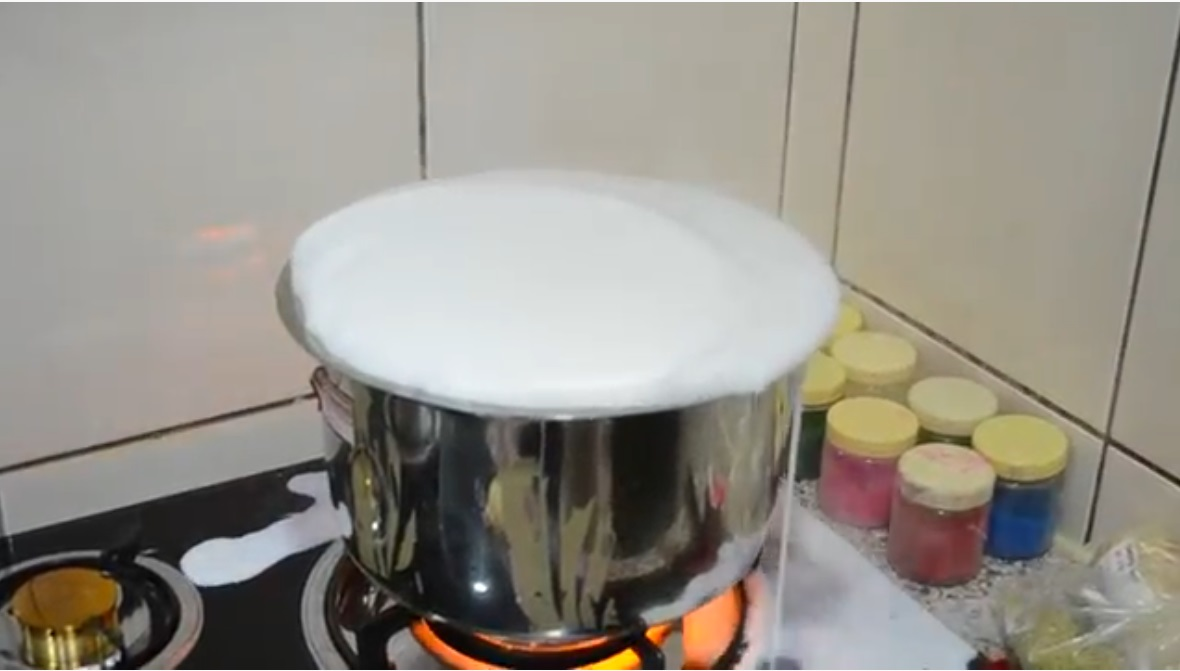Boiled: (256, 160, 907, 631)
